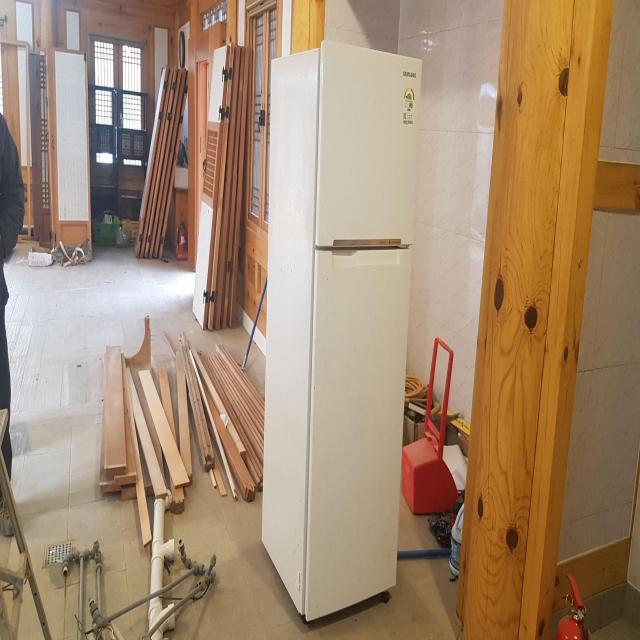refrigerator: (261, 41, 423, 627)
